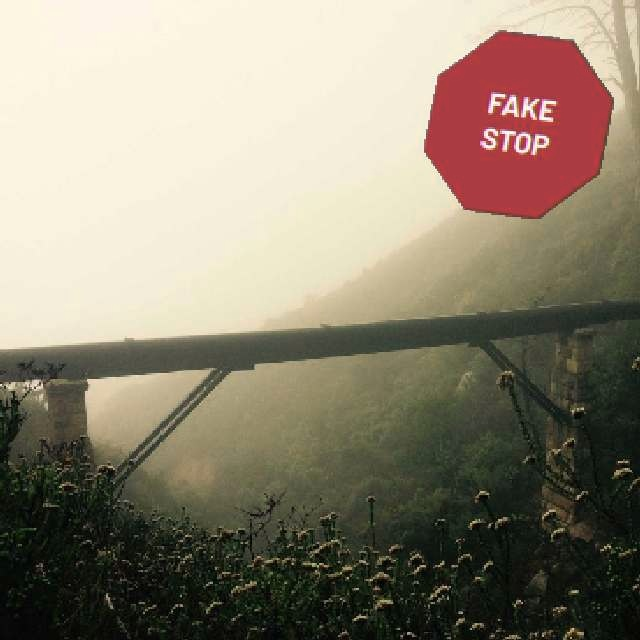FAKE_STOP: (421, 28, 613, 218)
